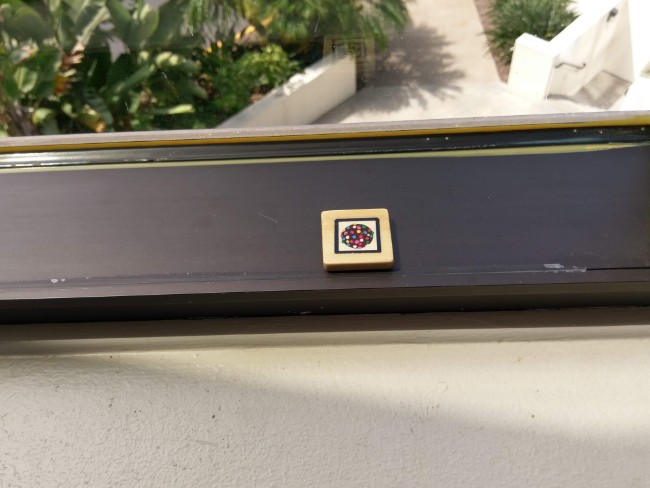cookie: (328, 210, 393, 260)
